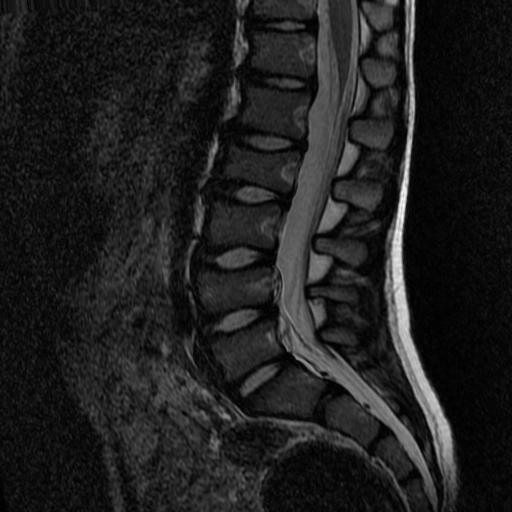D1: (222, 119, 308, 155)
